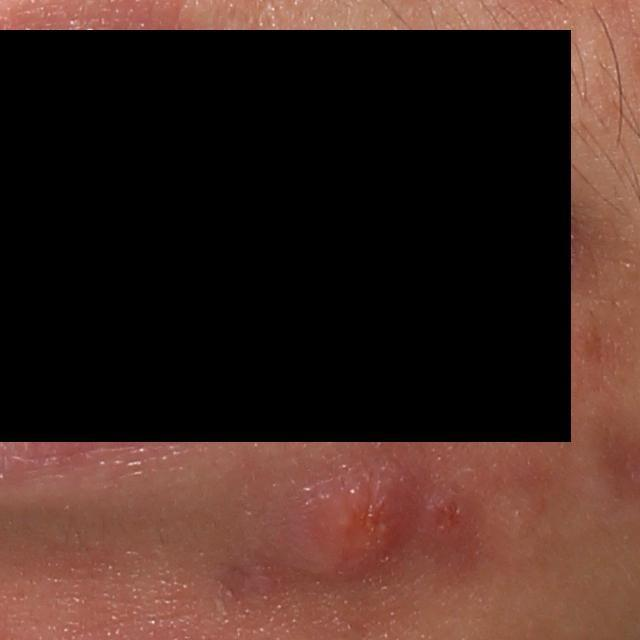nodule: (257, 447, 452, 588)
